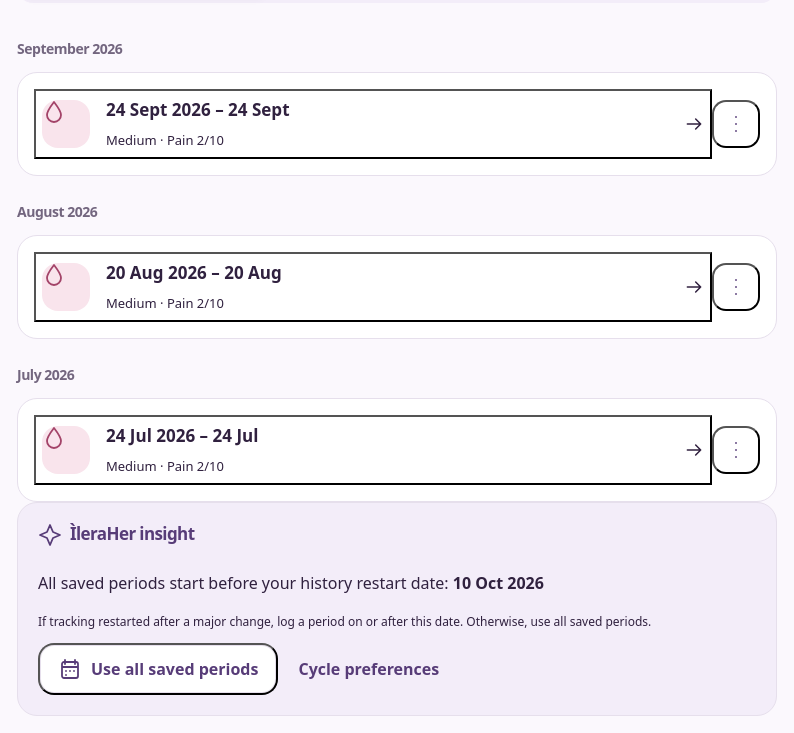
Test: personalized calendar › restores an estimate on logs when the user includes periods excluded by a restart date
This screenshot has width=794, height=733.
(page scrolled)
Check: the element with class "ux-prediction-panel" shows "All saved periods start before", box [38,572,444,594]
Check: the element with class "ux-prediction-panel" shows "10 Oct 2026", box [453,572,544,594]
Click the button "Use all saved periods": (158, 669) [38,643,278,695]
(page scrolled)
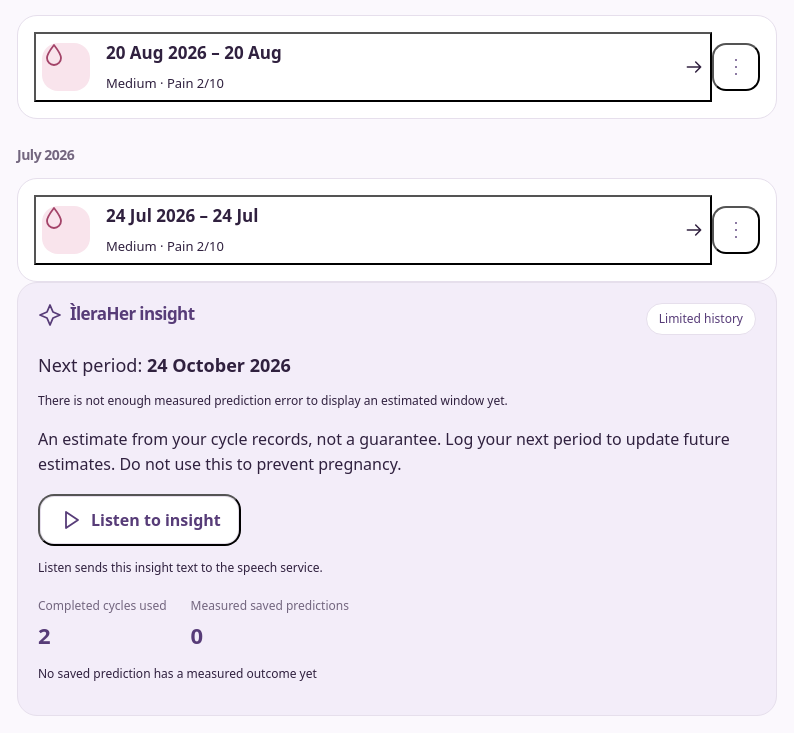
Check: the element with class "ux-prediction-panel" shows "24 October 2026", box [147,353,291,377]
